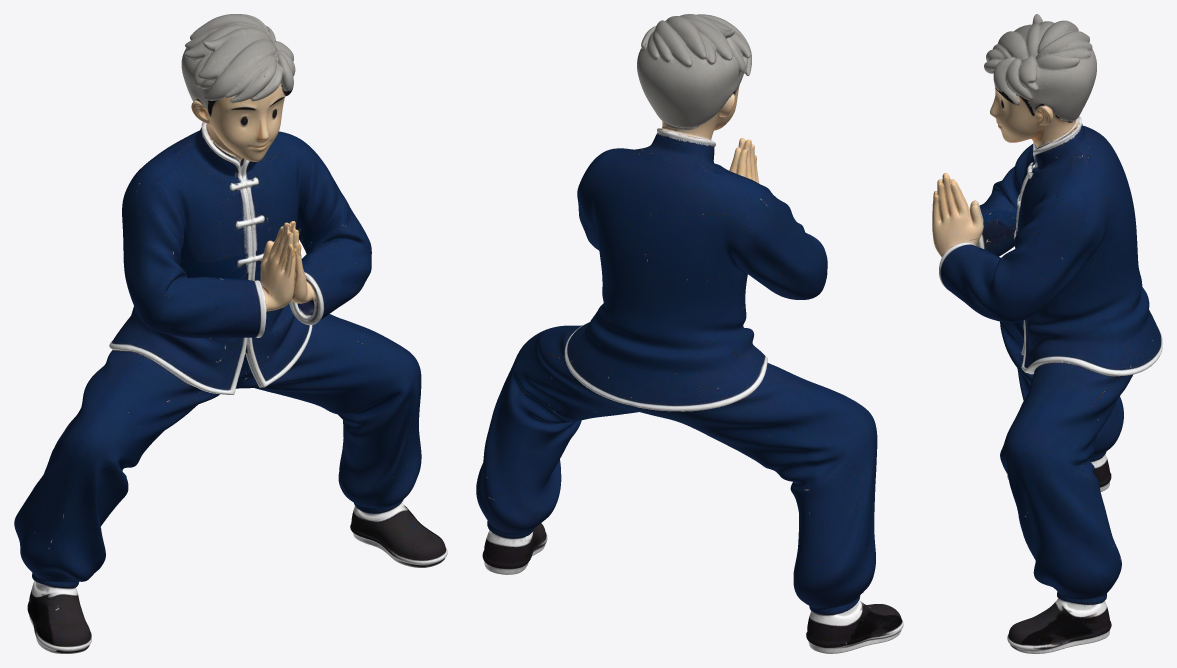
The model's file is prayer.glb.
3 renders of one model, left to right at view 1: azimuth 30°, elevation 25°; view 2: azimuth 150°, elevation 25°; view 3: azimuth 270°, elevation 25°, orthographic. The views are drawn at different scales.
Visible parts, largest first — view 1: Meshy_AI_Kung_Fu_Prayer_Pose_0528191841_texture.obj; view 2: Meshy_AI_Kung_Fu_Prayer_Pose_0528191841_texture.obj; view 3: Meshy_AI_Kung_Fu_Prayer_Pose_0528191841_texture.obj.
Boxes of the visible parts, left/top/right/bottom form: Meshy_AI_Kung_Fu_Prayer_Pose_0528191841_texture.obj: left=14, top=14, right=447, bottom=653; Meshy_AI_Kung_Fu_Prayer_Pose_0528191841_texture.obj: left=476, top=14, right=903, bottom=653; Meshy_AI_Kung_Fu_Prayer_Pose_0528191841_texture.obj: left=932, top=14, right=1162, bottom=653.
Bounding box in the file's own units: 0.3455 × 0.4748 × 0.1832.
1 material, 1 textured.
